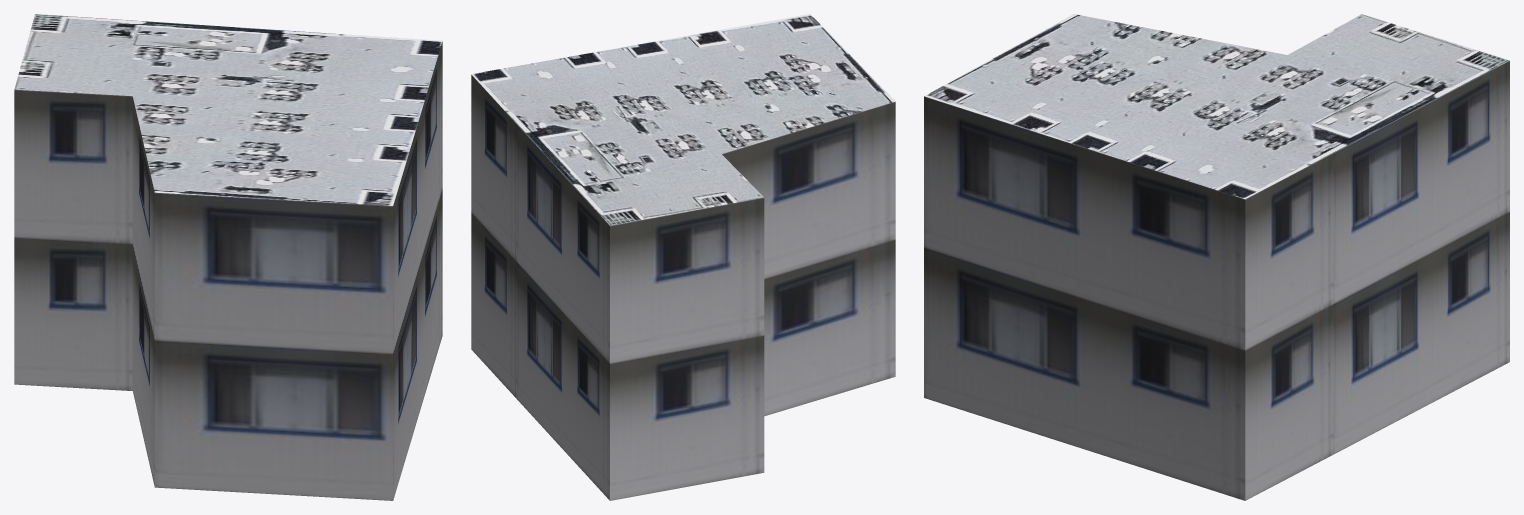
The model's file is ResTex__5007.fbx.
The picture shows the model from 3 angles, left to right: view 1: azimuth 30°, elevation 25°; view 2: azimuth 150°, elevation 25°; view 3: azimuth 270°, elevation 25°; orthographic projection. The views are drawn at different scales.
Parts seen in each view (by area): view 1: CityEngineMaterial_9_m, CityEngineMaterial_4_m; view 2: CityEngineMaterial_9_m, CityEngineMaterial_4_m; view 3: CityEngineMaterial_9_m, CityEngineMaterial_4_m.
Boxes of the visible parts, x1=… form: CityEngineMaterial_9_m: x1=14, y1=41, x2=442, y2=500; CityEngineMaterial_4_m: x1=14, y1=14, x2=442, y2=205; CityEngineMaterial_9_m: x1=471, y1=75, x2=895, y2=500; CityEngineMaterial_4_m: x1=471, y1=14, x2=895, y2=225; CityEngineMaterial_9_m: x1=924, y1=60, x2=1509, y2=500; CityEngineMaterial_4_m: x1=924, y1=14, x2=1509, y2=199.
Size of the model in its own units: 7.91 by 6 by 10.56.
2 materials, 2 textured.
